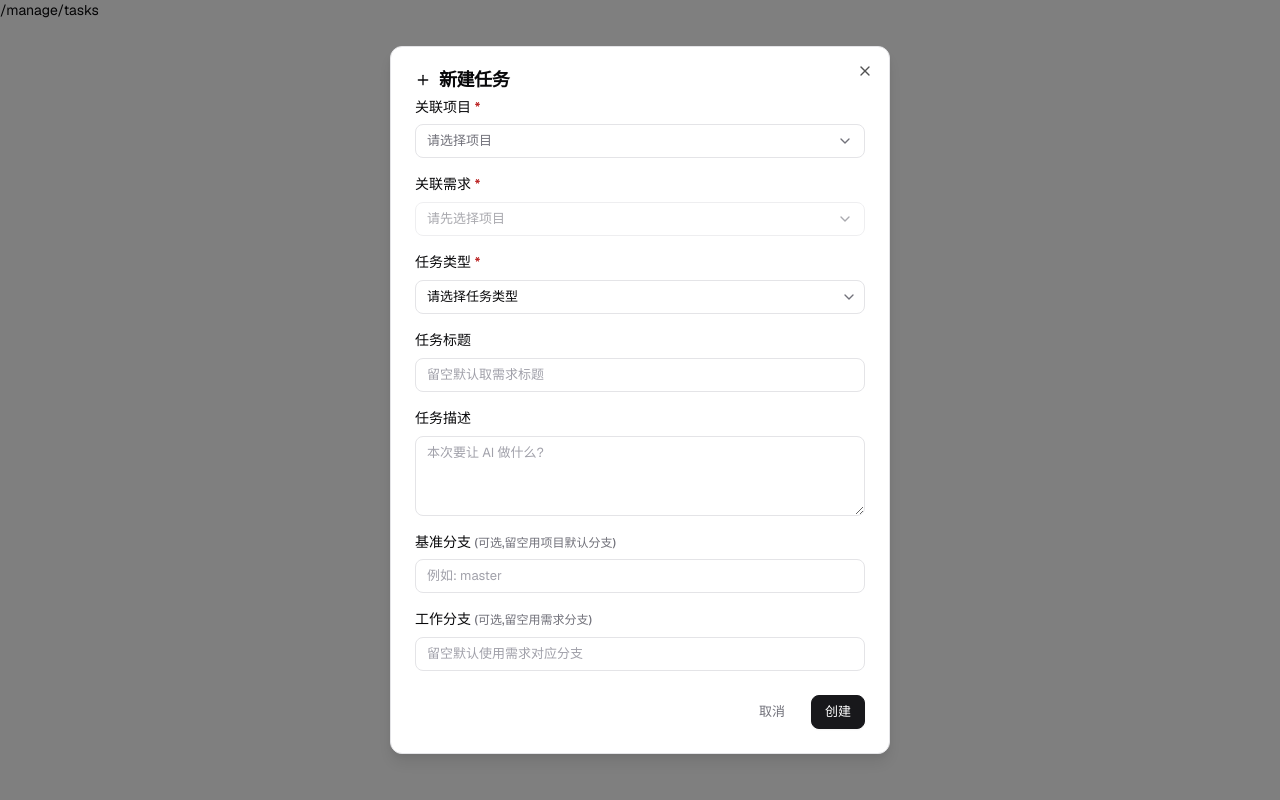
R4 统一表单结构(TaskCreateDialog) › 4. 填写完整表单提交:调 createTask 并跳转任务详情页 /tasks/t-123
Click the button "请选择项目": click(460, 141) [415,124,865,158]
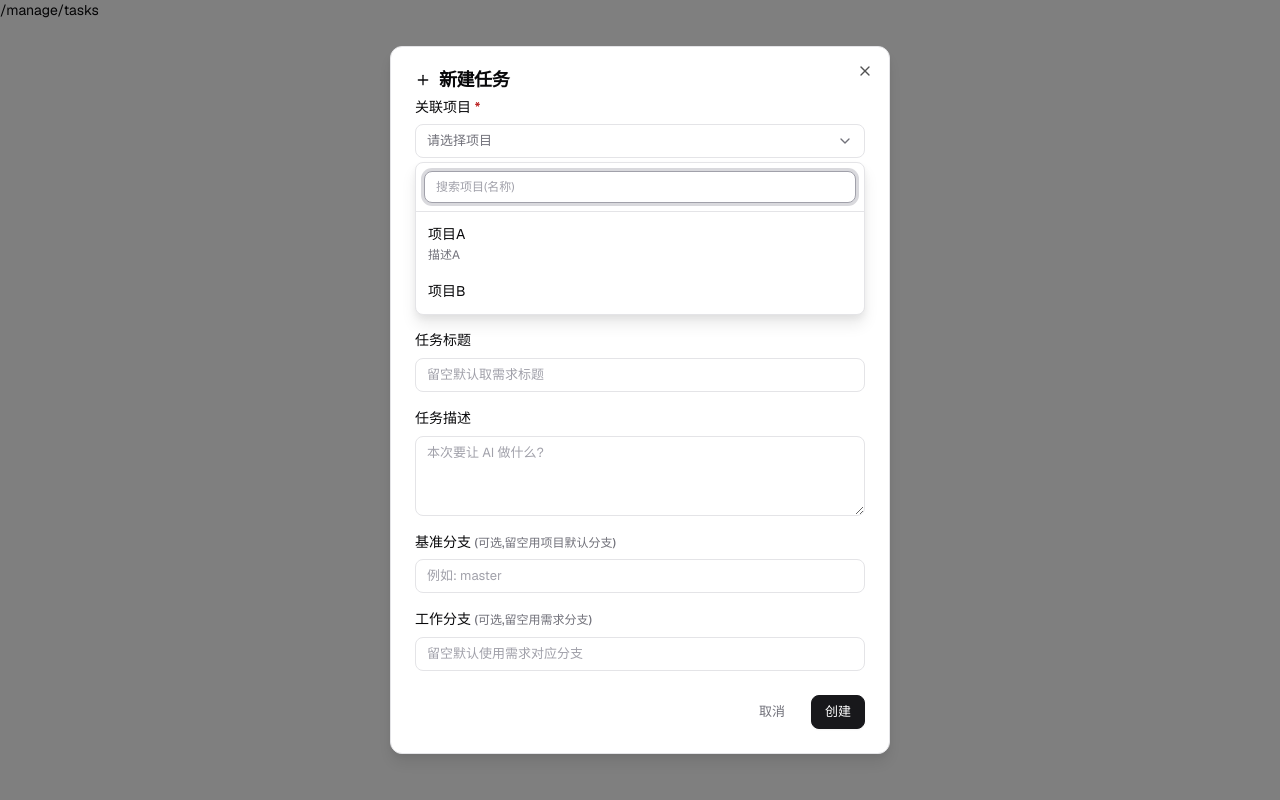
Click the text "项目A": click(447, 234) [428,225,465,243]
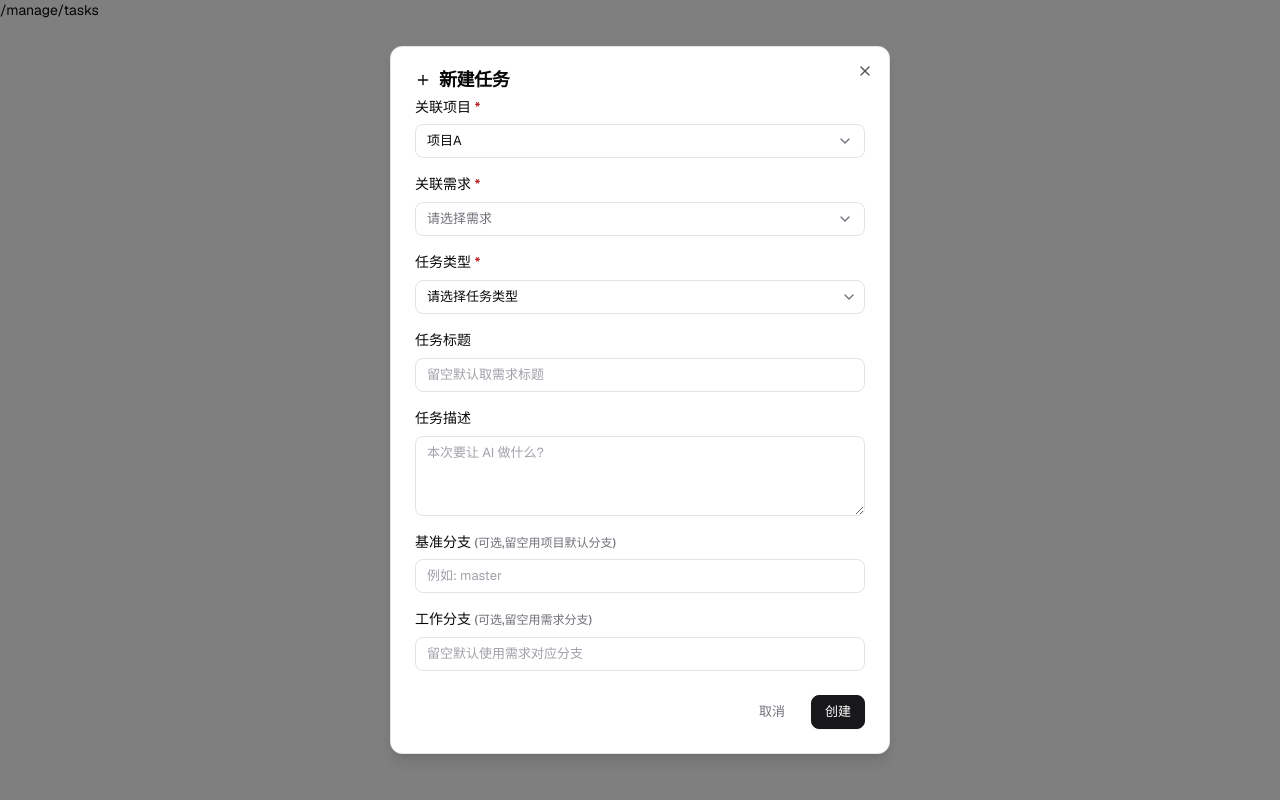
Click the button "请选择需求": click(460, 219) [415,202,865,236]
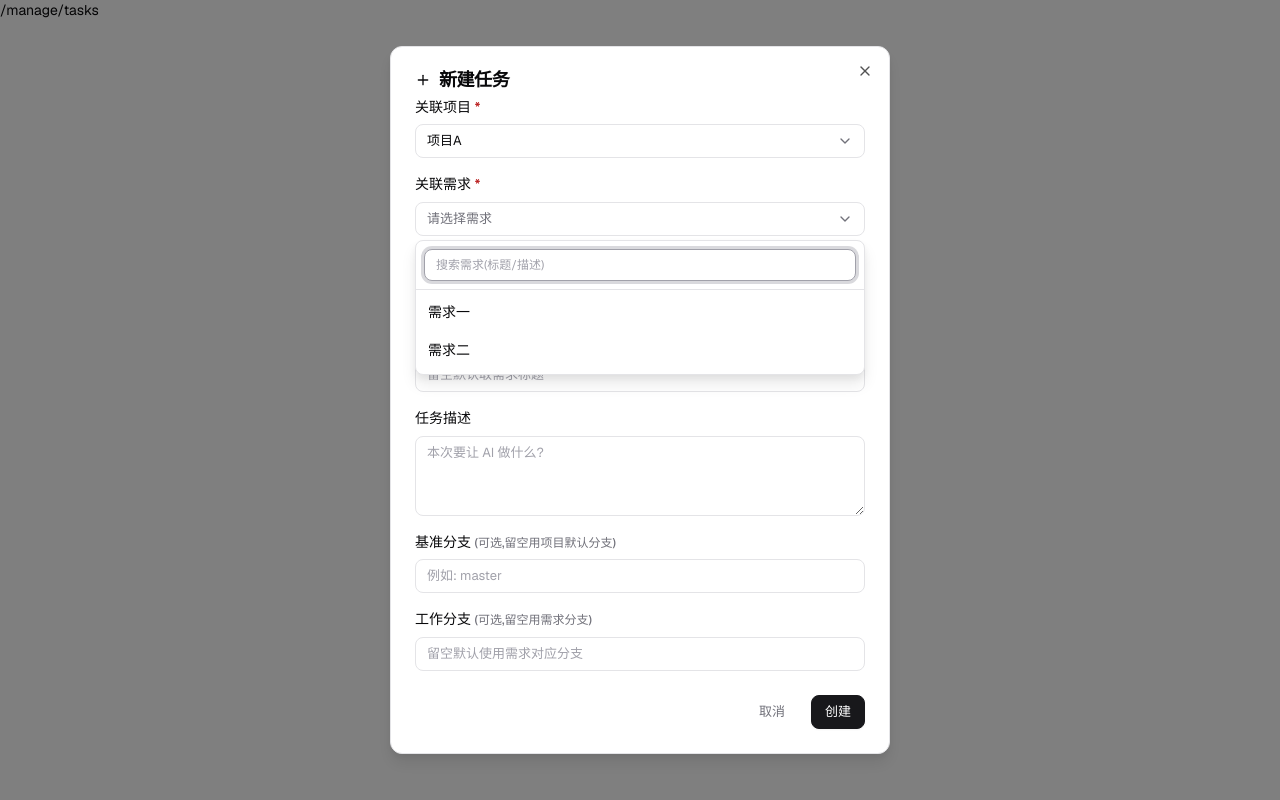
Click the button "需求一": click(449, 312) [416,294,864,332]
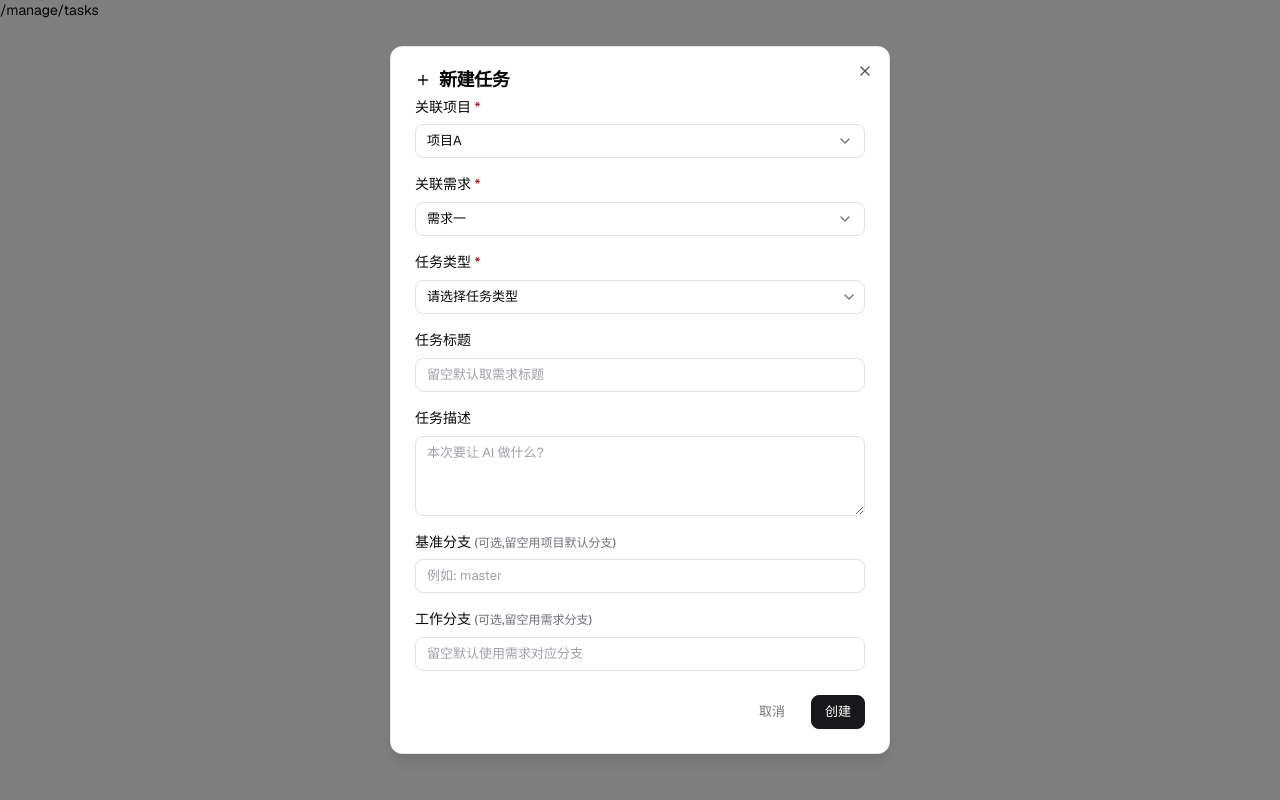
Select "开发" in the dropdown: (640, 297) [415,280,865,314]
In the field with placeholder "留空默认取需求标题": (640, 375) [415,358,865,392], type "统一表单标题"
In the text box with placeholder "本次要让 AI 做什么?": (640, 476) [415,436,865,516], type "统一表单描述"
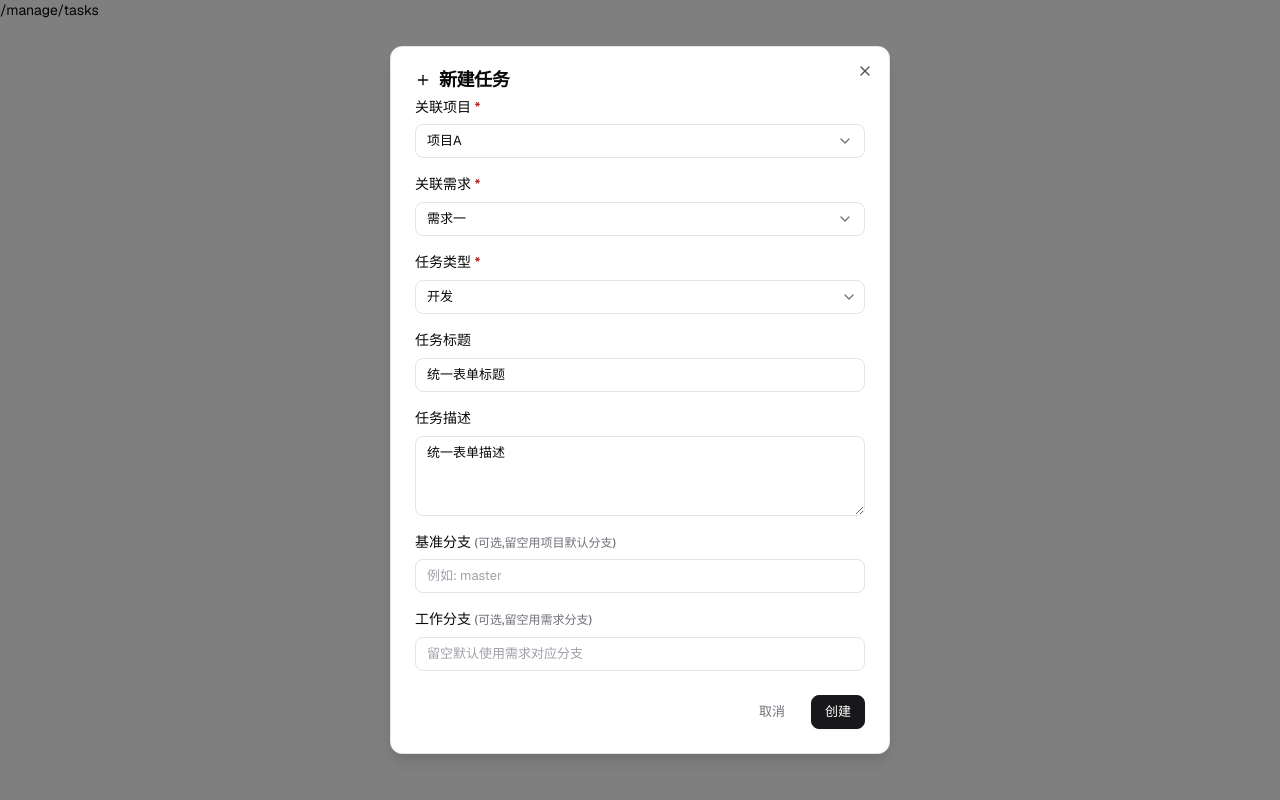
Click the button "创建": click(838, 712) [811,695,865,729]
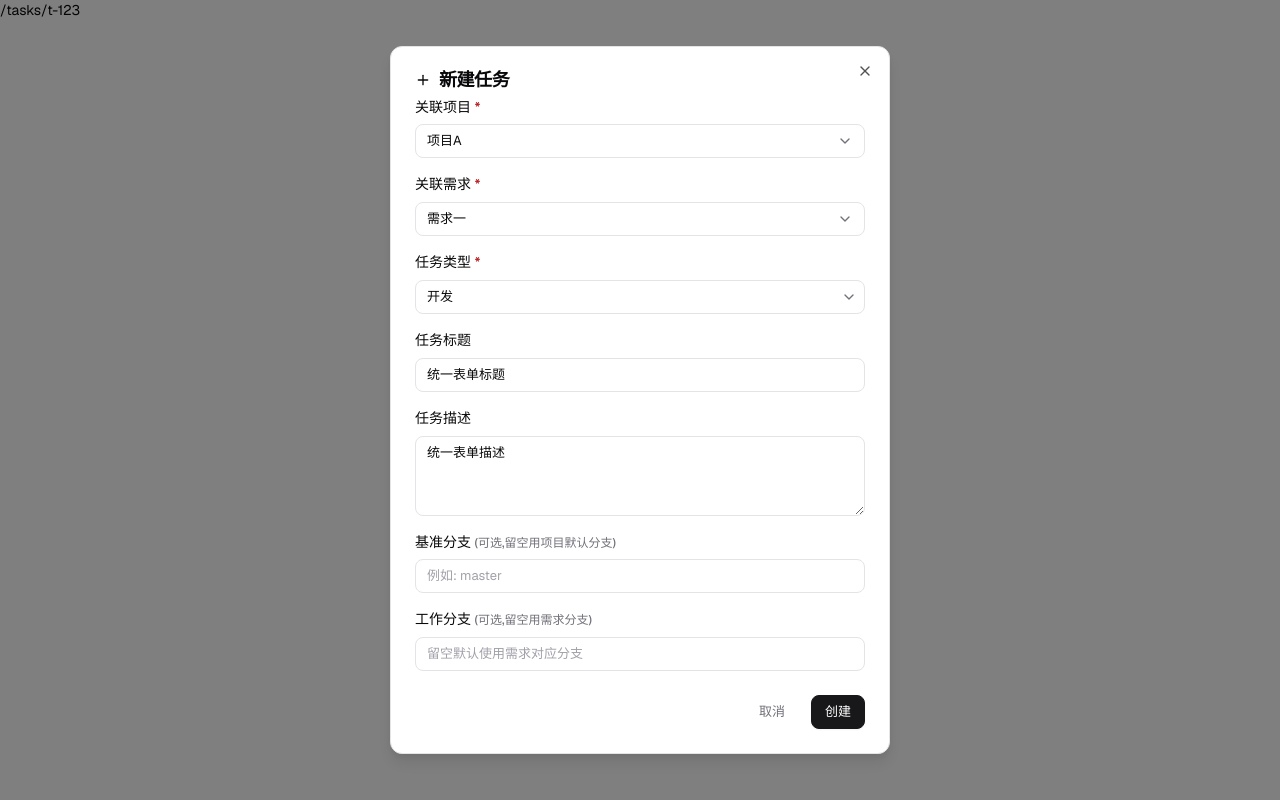
Check: the text with test id "location-probe" reads "/tasks/t-123", box [0,1,80,19]
